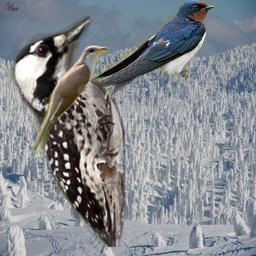Cuckoo: (30, 45, 109, 155)
Swallow: (72, 0, 216, 120)
Woodpecker: (9, 16, 125, 247)
